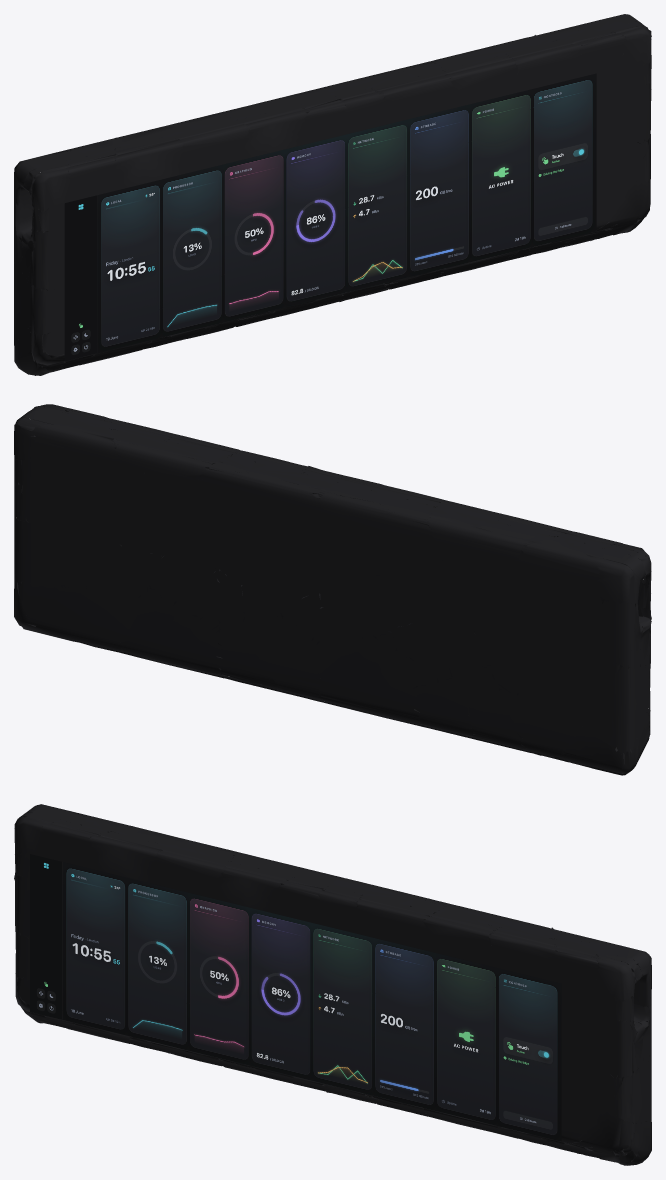
Rendered from xeneon-meshy.glb.
3 renders of one model, top to bottom at view 1: azimuth 30°, elevation 25°; view 2: azimuth 150°, elevation 25°; view 3: azimuth 330°, elevation 25°, orthographic.
Visible parts, largest first — view 1: Plane, Mesh_0; view 2: Mesh_0; view 3: Plane, Mesh_0.
Part boxes in pixels (<box>): Plane: <box>64,73,596,360</box>; Mesh_0: <box>14,14,651,375</box>; Mesh_0: <box>14,404,651,775</box>; Plane: <box>30,854,561,1141</box>; Mesh_0: <box>14,804,651,1165</box>.
Size of the model in its own units: 1.9 by 0.6278 by 0.161.
2 materials, 1 textured.
